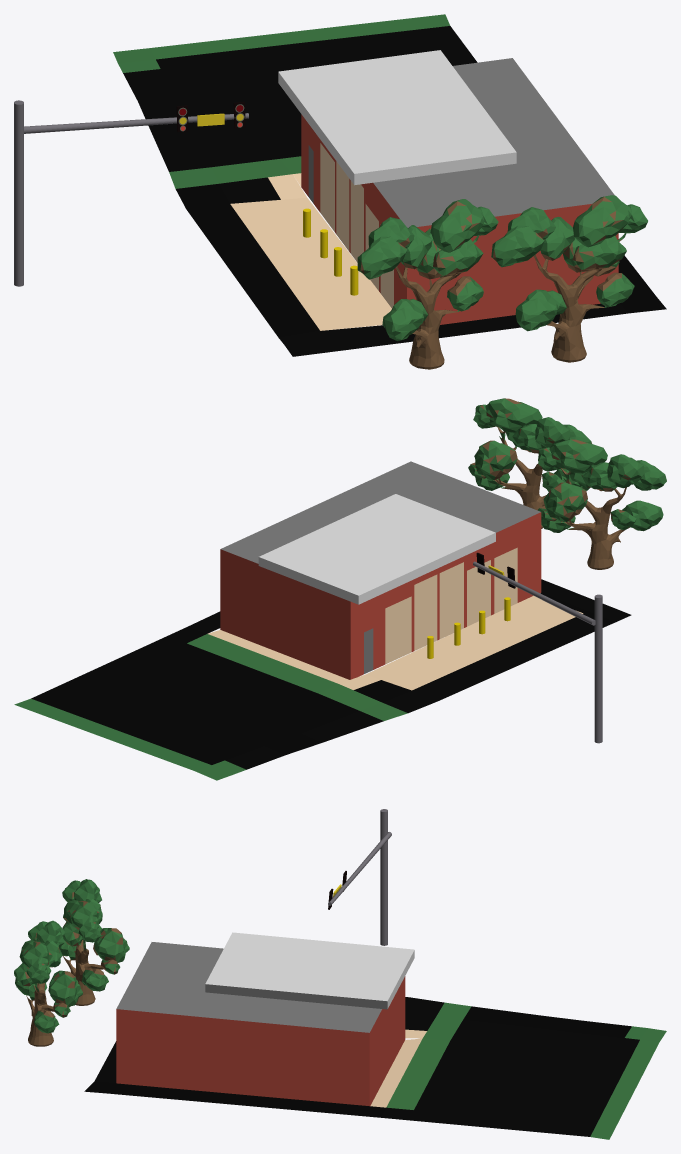
Rendered from capefirehouse5.glb.
The picture shows the model from 3 angles, top to bottom: view 1: azimuth 30°, elevation 25°; view 2: azimuth 150°, elevation 25°; view 3: azimuth 270°, elevation 25°; orthographic projection. The views are drawn at different scales.
Parts seen in each view (by area): view 1: Cylinder.003, tree_Cube.004, tree_Cube.003; view 2: Cylinder.003, tree_Cube.003, tree_Cube.004; view 3: Cylinder.003, tree_Cube.003, tree_Cube.004.
Part boxes in pixels (x1,y1,x2,y2): Cylinder.003: (14, 14, 666, 356); tree_Cube.004: (491, 195, 647, 362); tree_Cube.003: (357, 199, 498, 369); Cylinder.003: (14, 461, 631, 780); tree_Cube.003: (537, 439, 666, 569); tree_Cube.004: (468, 398, 591, 528); Cylinder.003: (84, 809, 666, 1139); tree_Cube.003: (60, 879, 129, 1005); tree_Cube.004: (14, 920, 82, 1046).
Bounding box in the file's own units: 0.1569 × 0.0467 × 0.2066.
